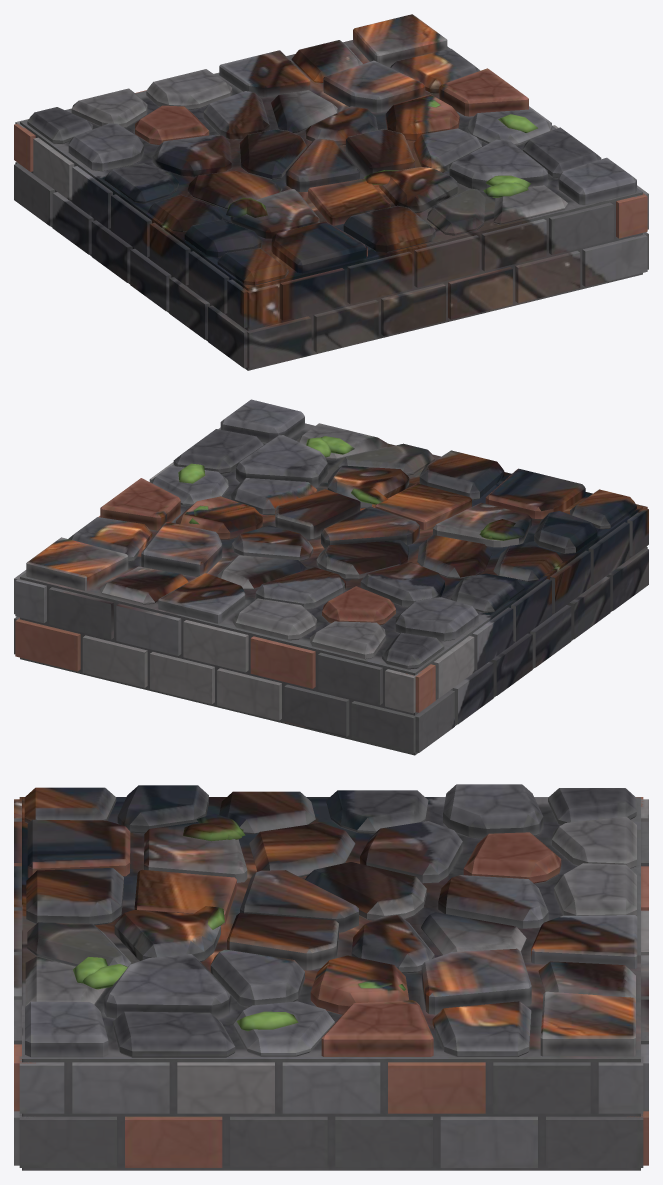
The model's file is beacon_plate.glb.
3 renders of one model, top to bottom at view 1: azimuth 30°, elevation 25°; view 2: azimuth 150°, elevation 25°; view 3: azimuth 270°, elevation 25°, orthographic. The views are drawn at different scales.
Visible parts, largest first — view 1: beacon_plate; view 2: beacon_plate; view 3: beacon_plate.
Boxes of the visible parts, x1,y1,x2,y2 form: beacon_plate: (14,14,648,370); beacon_plate: (14,399,648,755); beacon_plate: (14,784,648,1170).
Bounding box in the file's own units: 2.01 × 0.464 × 2.01.
Materials: 1 (1 with a texture image).
